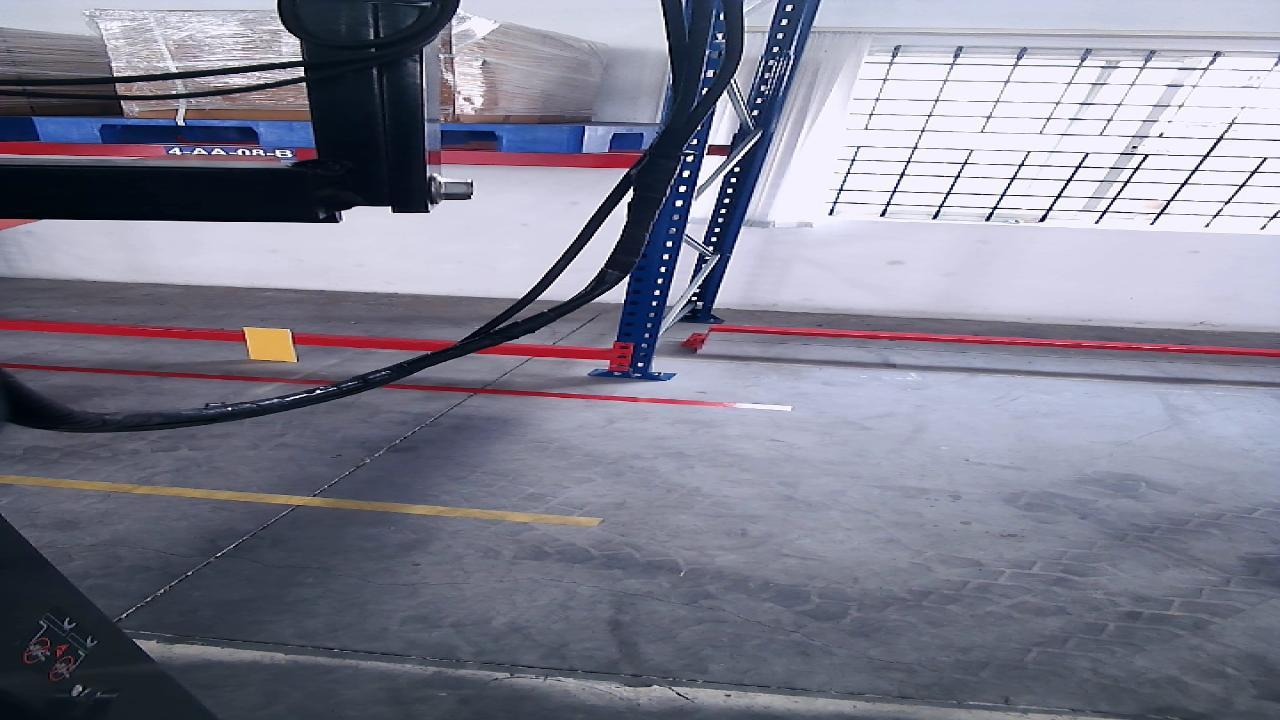h_rack: (0, 322, 607, 359), (1, 141, 640, 169)
orange_strip: (242, 328, 295, 360)
red_line: (3, 361, 792, 411)
small_pallet: (27, 118, 585, 154)
yellow_line: (0, 474, 599, 526)
